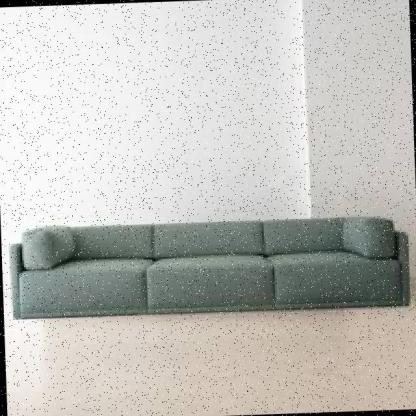Sofa: (5, 198, 416, 334)
